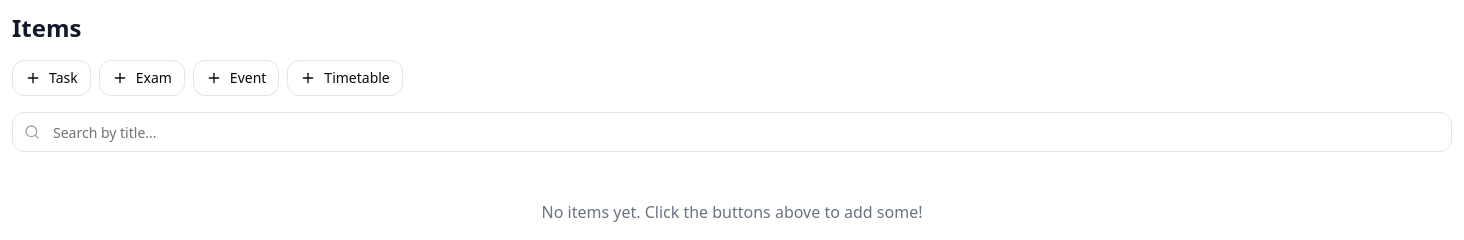
Scenario: ItemList Component › filters items based on search input
The width and height of the screenshot is (1464, 240).
Note: Type in the search input
Type "test" into the field with placeholder "Search by title...".
click(732, 132); type("test")  # box [12, 112, 1452, 152]
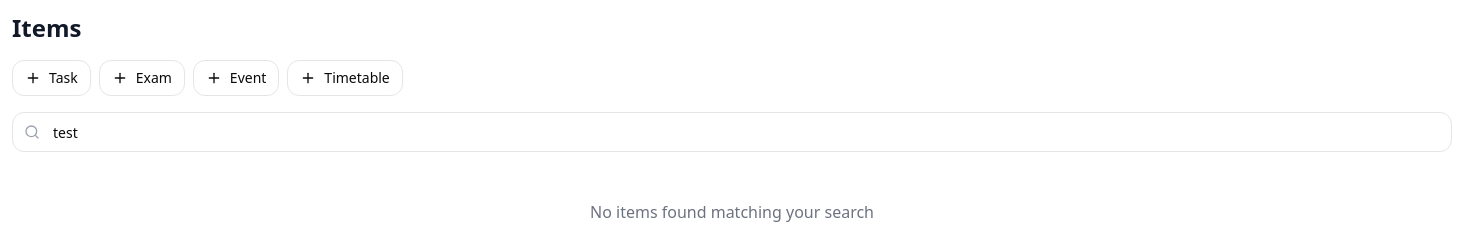
Check: the text "No items found matching your search" is shown, box [590, 201, 874, 223]
